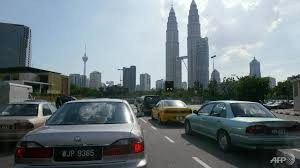car: (18, 94, 155, 167), (187, 97, 298, 162), (1, 97, 60, 146), (152, 95, 198, 130)
